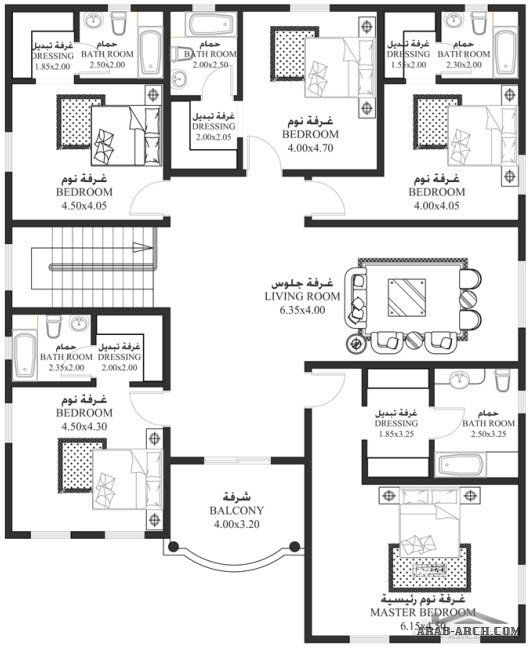door: (125, 387, 160, 423), (245, 128, 280, 164), (124, 180, 159, 216), (316, 369, 351, 405), (316, 181, 351, 217)
